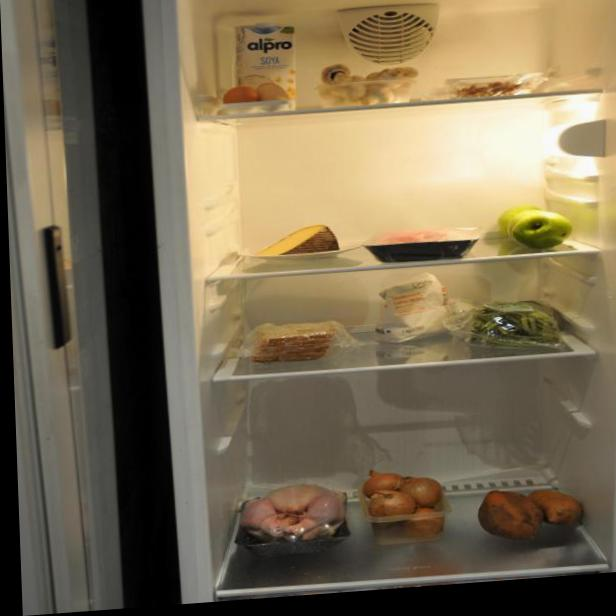apple: (494, 189, 582, 259)
bread: (249, 313, 346, 364)
cheese: (247, 216, 356, 280)
chicken: (241, 478, 352, 562)
eggs: (219, 75, 291, 125)
green beans: (457, 294, 572, 358)
meat: (365, 213, 484, 270)
milk: (234, 12, 300, 111)
mushroom: (313, 53, 425, 120)
onion: (359, 455, 455, 542)
